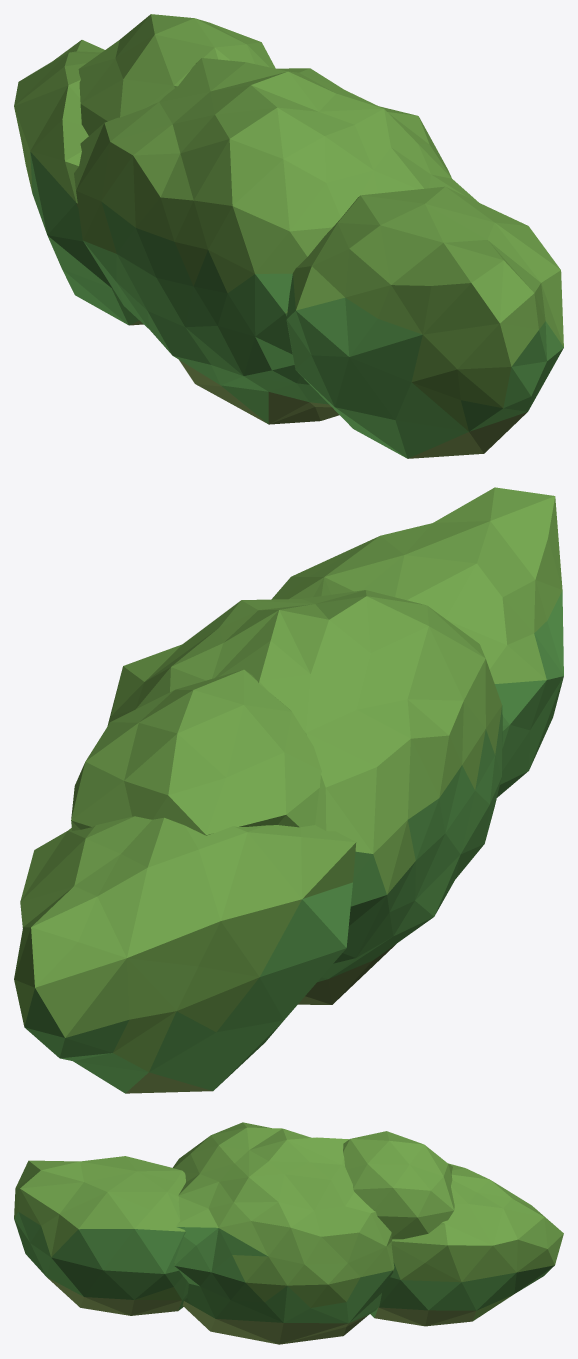
Rendered from bush_1.glb.
The picture shows the model from 3 angles, top to bottom: view 1: azimuth 30°, elevation 25°; view 2: azimuth 150°, elevation 25°; view 3: azimuth 270°, elevation 25°; orthographic projection. The views are drawn at different scales.
Parts seen in each view (by area): view 1: Icosphere.000_Material.006_0; view 2: Icosphere.000_Material.006_0; view 3: Icosphere.000_Material.006_0.
Part boxes in pixels (left/top/right/bottom): Icosphere.000_Material.006_0: left=14, top=14, right=563, bottom=458; Icosphere.000_Material.006_0: left=14, top=487, right=563, bottom=1093; Icosphere.000_Material.006_0: left=14, top=1122, right=563, bottom=1344.
Bounding box in the file's own units: 0.8619 × 0.886 × 2.29.
